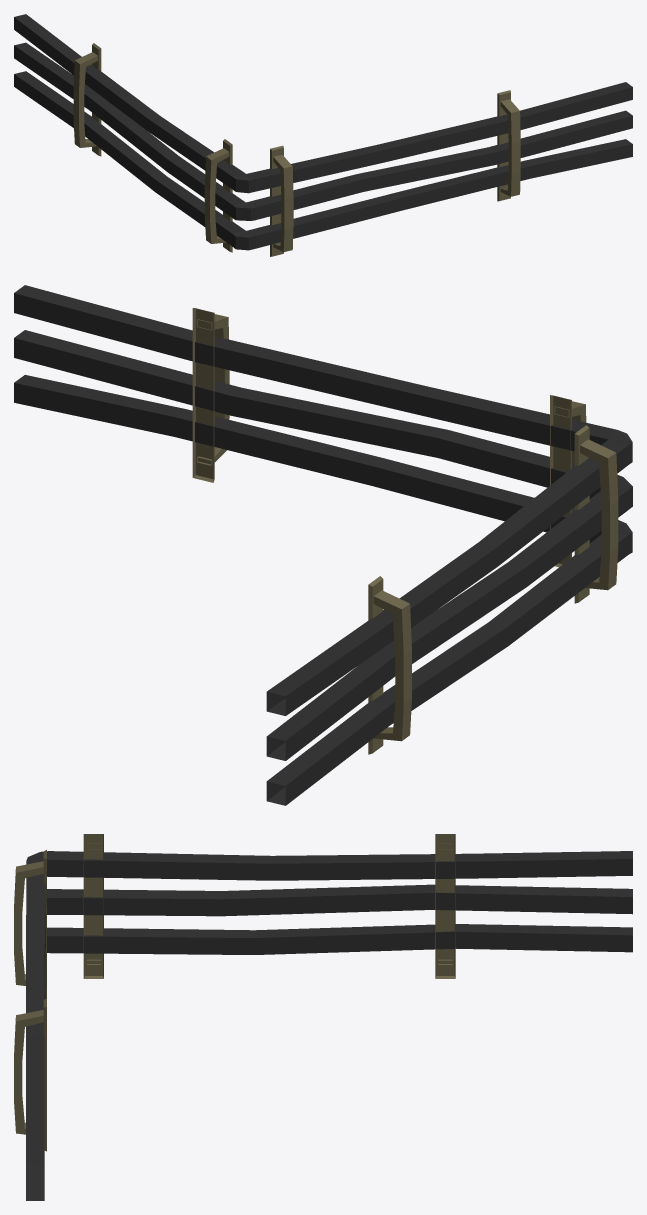
Rendered from SW_ENV_Wires3_Crnr_LongOuterStation.fbx.
The picture shows the model from 3 angles, top to bottom: view 1: azimuth 30°, elevation 25°; view 2: azimuth 150°, elevation 25°; view 3: azimuth 270°, elevation 25°; orthographic projection. The views are drawn at different scales.
Visible parts, largest first — view 1: SW_ENV_Wires3_Crnr_LongOuterStation; view 2: SW_ENV_Wires3_Crnr_LongOuterStation; view 3: SW_ENV_Wires3_Crnr_LongOuterStation.
Part boxes in pixels (box(x1,y1,x2,y2)): SW_ENV_Wires3_Crnr_LongOuterStation: box(14, 14, 632, 256); SW_ENV_Wires3_Crnr_LongOuterStation: box(14, 285, 632, 805); SW_ENV_Wires3_Crnr_LongOuterStation: box(14, 834, 632, 1200).
Bounding box in the file's own units: 132 × 34.12 × 132.
